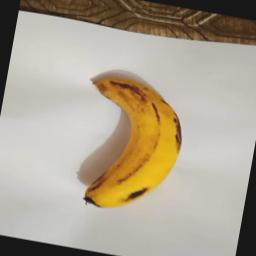Banana Unripe: (63, 58, 196, 224)
